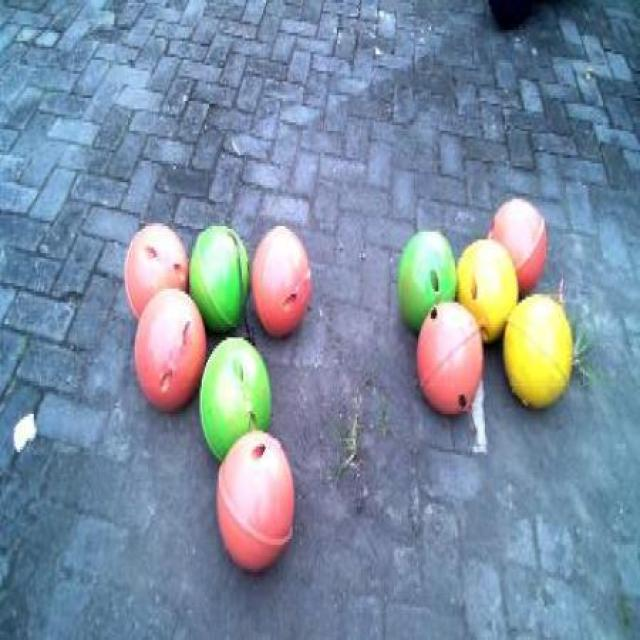buoy: (205, 417, 300, 580), (126, 276, 212, 412), (195, 326, 273, 472), (498, 283, 576, 417), (412, 292, 487, 429), (244, 208, 318, 339), (452, 232, 524, 364), (117, 212, 190, 330), (186, 216, 258, 332), (393, 214, 462, 334), (487, 182, 553, 300)
